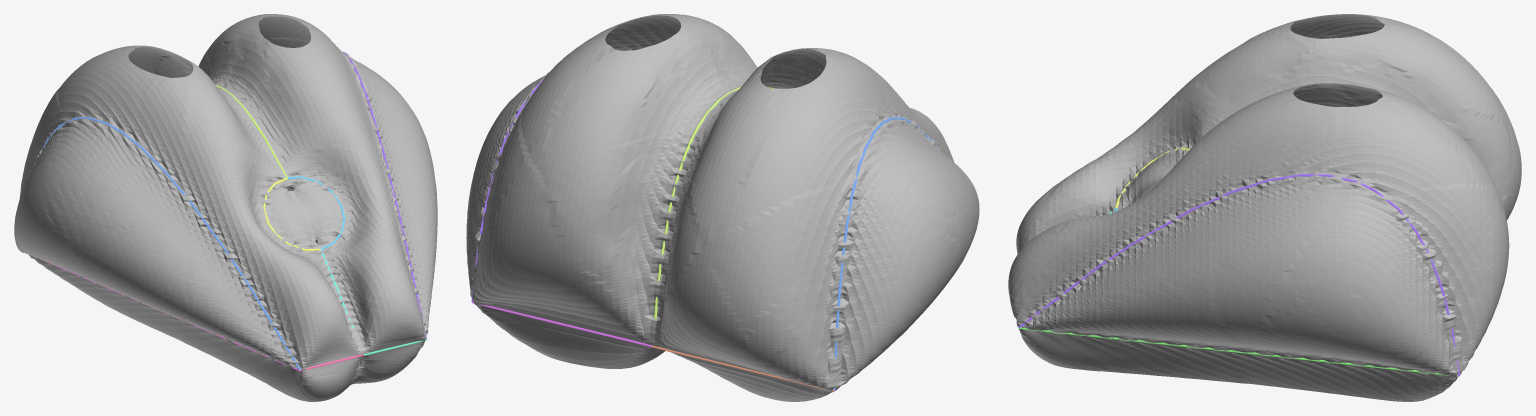
File: onshape_simple_mouse.gltf
3 views of the same model, side by side, from view 1: azimuth 30°, elevation 25°; view 2: azimuth 150°, elevation 25°; view 3: azimuth 270°, elevation 25° (orthographic). The views are drawn at different scales.
Bounding box in the file's own units: 0.7821 × 0.4934 × 0.8241.
